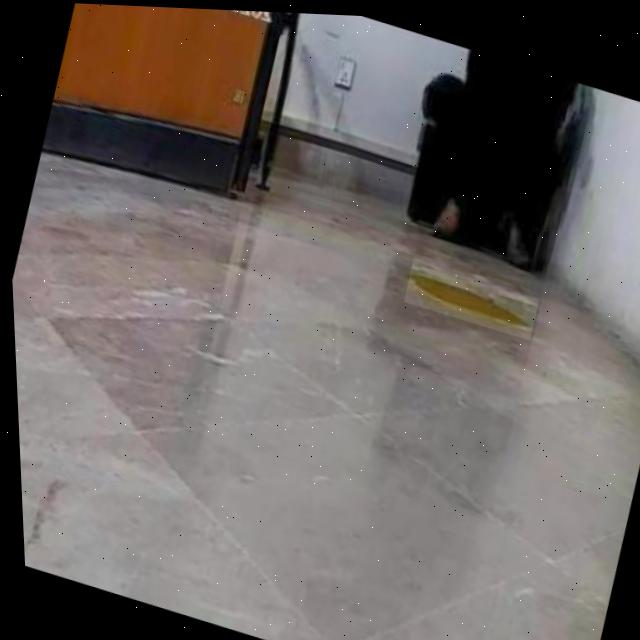spillage: (406, 269, 534, 332)
